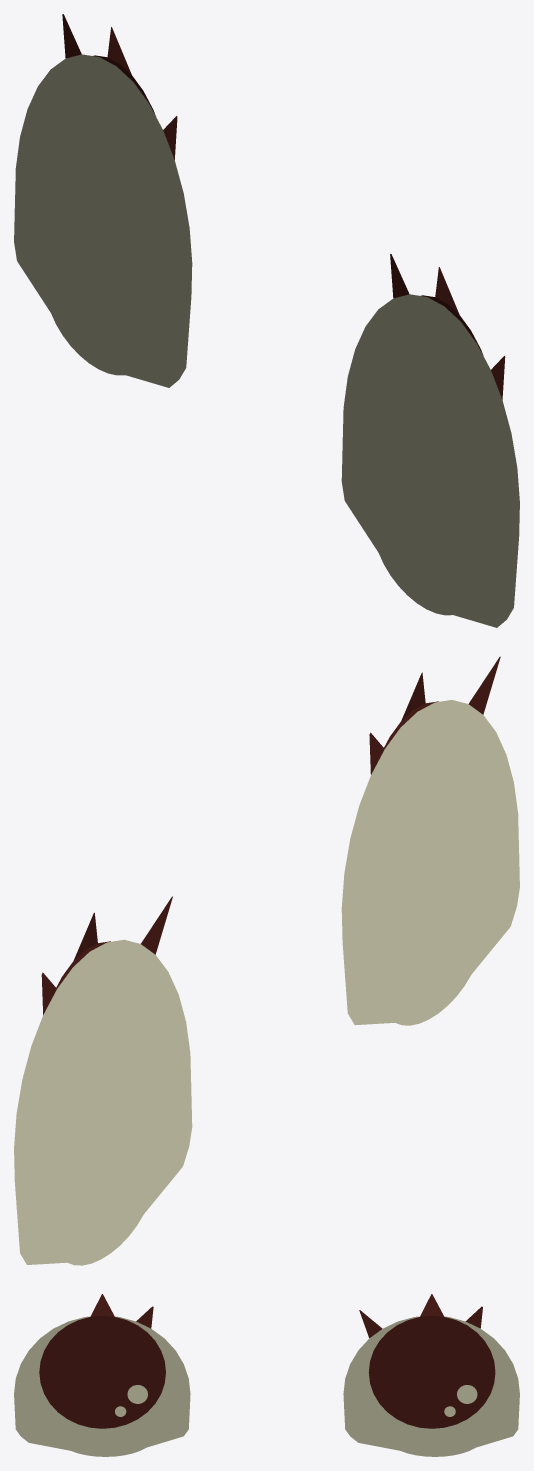
Rendered from StatiaEyes.glb.
3 renders of one model, top to bottom at view 1: azimuth 30°, elevation 25°; view 2: azimuth 150°, elevation 25°; view 3: azimuth 270°, elevation 25°, orthographic. The views are drawn at different scales.
Parts seen in each view (by area): view 1: StatiaEyes; view 2: StatiaEyes; view 3: StatiaEyes.
Boxes of the visible parts, x1,y1,x2,y2 form: StatiaEyes: [14, 14, 519, 627]; StatiaEyes: [14, 656, 519, 1265]; StatiaEyes: [14, 1294, 519, 1456].
Size of the model in its own units: 0.1102 by 1.25 by 3.41.
